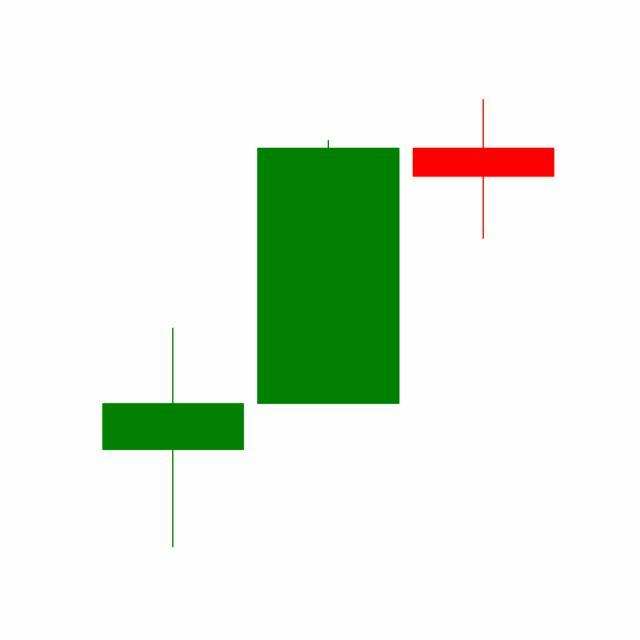Spinning Top: (406, 98, 562, 242)
